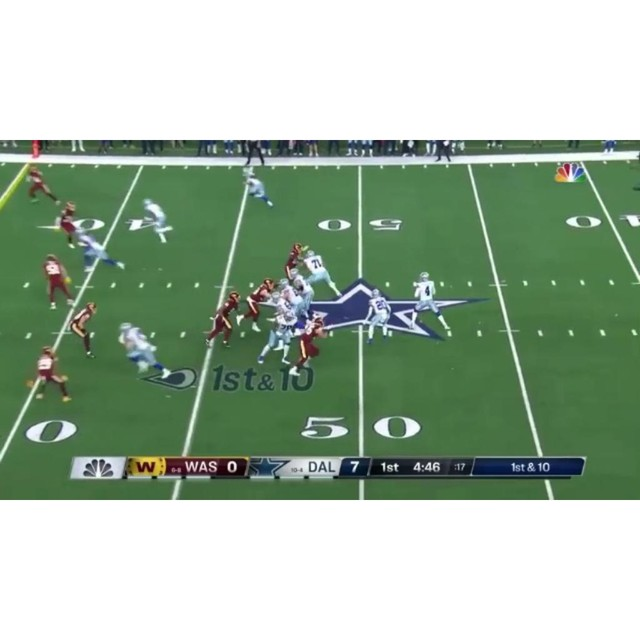american-football-player: (119, 323, 170, 378), (409, 270, 452, 334), (289, 317, 330, 376), (32, 345, 72, 402), (257, 309, 297, 364), (236, 279, 276, 332), (77, 231, 127, 273), (303, 248, 342, 300), (204, 292, 240, 348), (42, 253, 75, 309), (363, 288, 392, 345), (69, 302, 98, 358), (141, 198, 174, 244), (25, 165, 59, 205), (242, 168, 275, 209), (54, 200, 81, 248), (277, 279, 307, 317), (283, 243, 304, 283)
